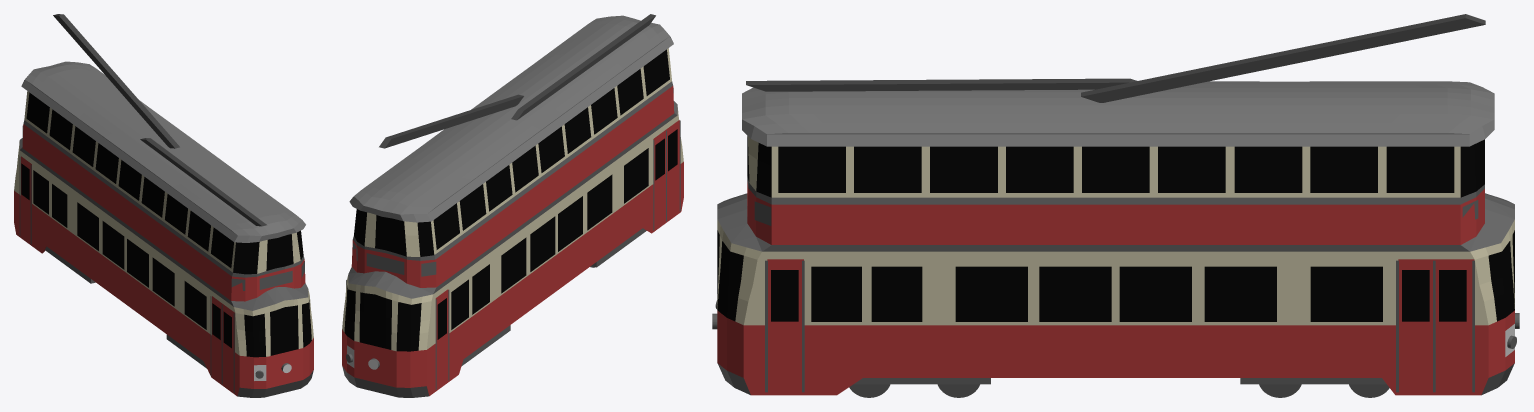
The model's file is feltham-lt.dae.
3 renders of one model, left to right at view 1: azimuth 30°, elevation 25°; view 2: azimuth 150°, elevation 25°; view 3: azimuth 270°, elevation 25°, orthographic. The views are drawn at different scales.
Parts seen in each view (by area): view 1: Cube, Cube_003, Cube_002, Plane_026, Cube_001, Plane_046, Plane_045, Plane_048, Plane_049, Plane_047, Plane_001, Plane_060 (+15 smaller); view 2: Cube, Cube_003, Plane_026, Cube_002, Cube_001, Plane_046, Plane_047, Plane_048, Plane_045, Plane_049, Plane_001, Plane_067 (+16 smaller); view 3: Cube, Cube_003, Plane_004, Cube_002, Cube_001, Plane_012, Plane_011, Plane_013, Plane_014, Plane_000, Plane_050, Plane_052 (+15 smaller).
Boxes of the visible parts, x1,y1,x2,y2 form: Cube: (14, 91, 313, 397); Cube_003: (21, 61, 305, 242); Cube_002: (53, 14, 179, 148); Plane_026: (212, 296, 234, 393); Cube_001: (140, 138, 266, 226); Plane_046: (152, 257, 174, 306); Plane_045: (184, 281, 206, 329); Plane_048: (102, 221, 124, 269); Plane_049: (127, 239, 148, 287); Plane_047: (77, 202, 98, 250); Plane_001: (21, 156, 31, 245); Plane_060: (49, 109, 72, 150); Cube: (342, 48, 683, 397); Cube_003: (349, 15, 673, 222); Plane_026: (653, 120, 679, 231); Cube_002: (379, 94, 523, 148); Cube_001: (511, 14, 655, 120); Plane_046: (587, 174, 612, 230); Plane_047: (501, 237, 526, 293); Plane_048: (530, 216, 555, 271); Plane_045: (624, 148, 648, 203); Plane_049: (558, 196, 582, 251); Plane_001: (435, 289, 448, 390); Plane_067: (643, 49, 669, 95); Cube: (717, 136, 1514, 395); Cube_003: (742, 81, 1494, 146); Plane_004: (1398, 259, 1474, 393); Cube_002: (1081, 14, 1485, 102); Cube_001: (746, 78, 1136, 91); Plane_012: (1039, 266, 1111, 321); Plane_011: (1119, 266, 1191, 321); Plane_013: (955, 266, 1027, 321); Plane_014: (1204, 266, 1276, 321); Plane_000: (1310, 266, 1382, 321); Plane_050: (1386, 146, 1454, 192); Plane_052: (1234, 146, 1302, 192).
Bounding box in the file's own units: 1.28 × 7.14 × 3.51.
